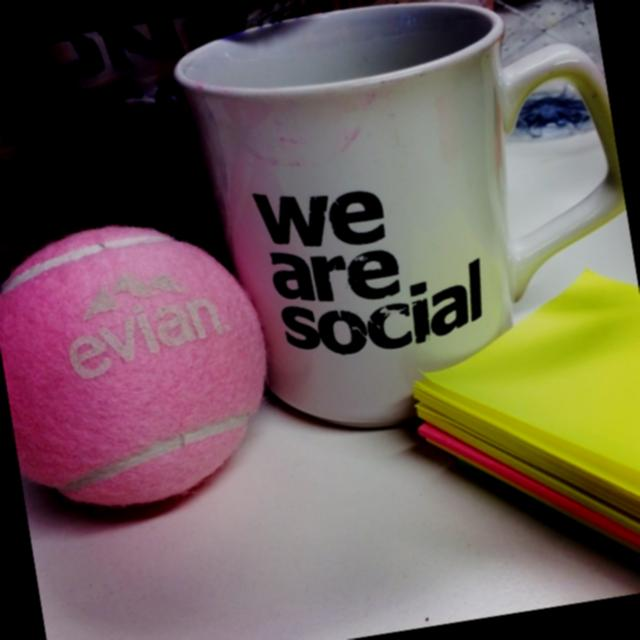Tennis ball: (0, 202, 292, 522)
